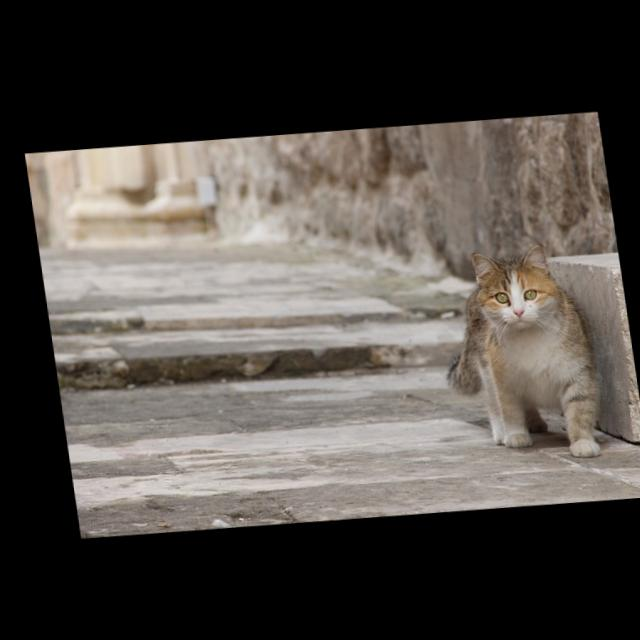animals: (434, 243, 617, 467), (442, 246, 597, 458)
